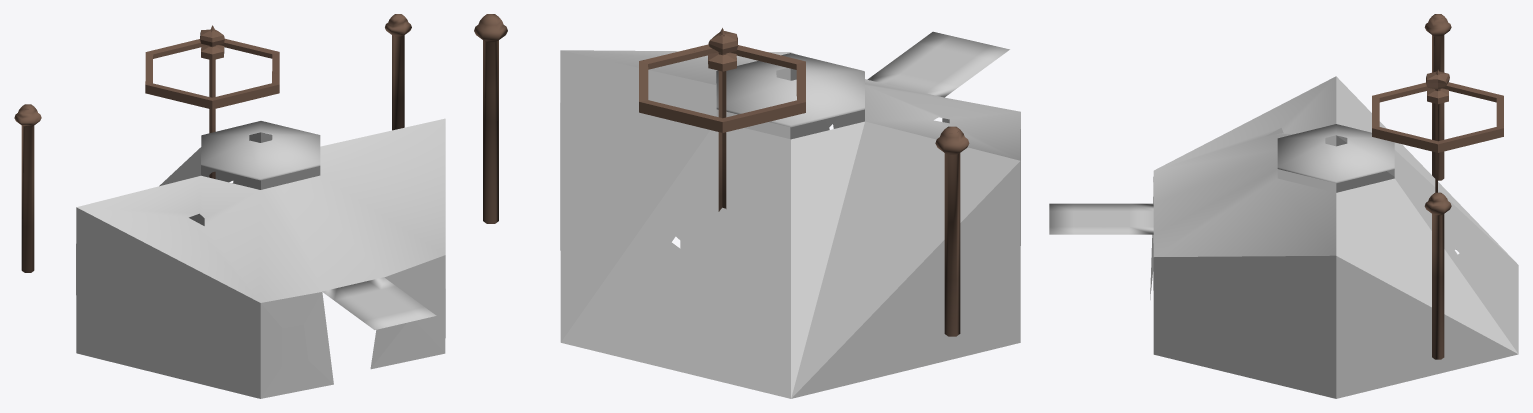
File: CabanaDriplessBuild.fbx
The picture shows the model from 3 angles, left to right: view 1: azimuth 30°, elevation 25°; view 2: azimuth 150°, elevation 25°; view 3: azimuth 270°, elevation 25°; orthographic projection. The views are drawn at different scales.
Visible parts, largest first — view 1: CabanaDriplessModelo.003, CabanaDriplessModelo.001; view 2: CabanaDriplessModelo.003, CabanaDriplessModelo.001; view 3: CabanaDriplessModelo.003, CabanaDriplessModelo.001.
Part boxes in pixels (x1,y1,x2,y2): CabanaDriplessModelo.003: [76, 118, 445, 398]; CabanaDriplessModelo.001: [14, 14, 411, 272]; CabanaDriplessModelo.003: [560, 31, 1020, 398]; CabanaDriplessModelo.001: [474, 14, 969, 336]; CabanaDriplessModelo.003: [1049, 76, 1518, 398]; CabanaDriplessModelo.001: [1372, 14, 1503, 359].
Size of the model in its own units: 143 by 86.64 by 151.
